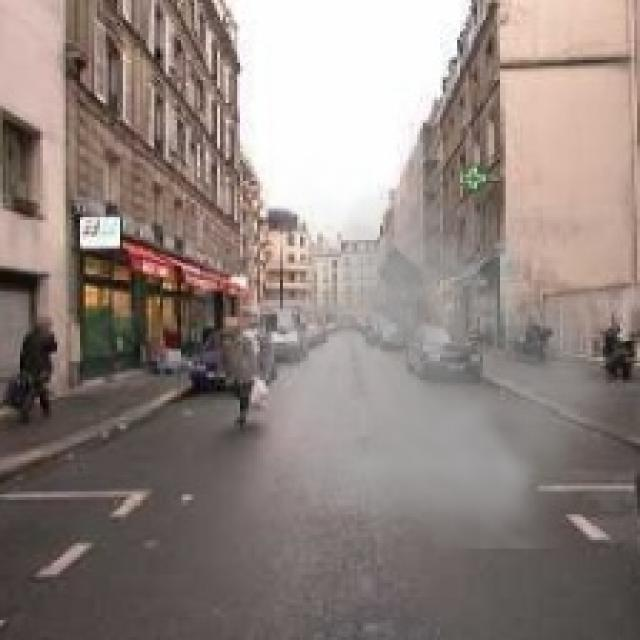smoke: (214, 148, 632, 548)
